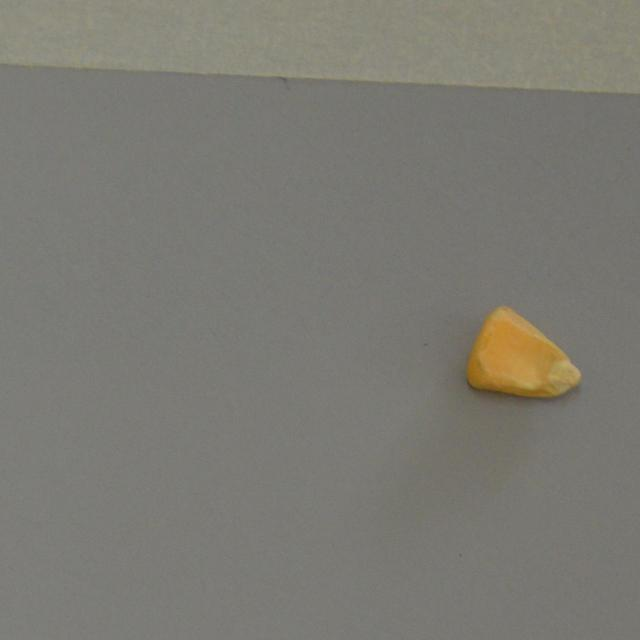entero: (466, 299, 584, 404)
